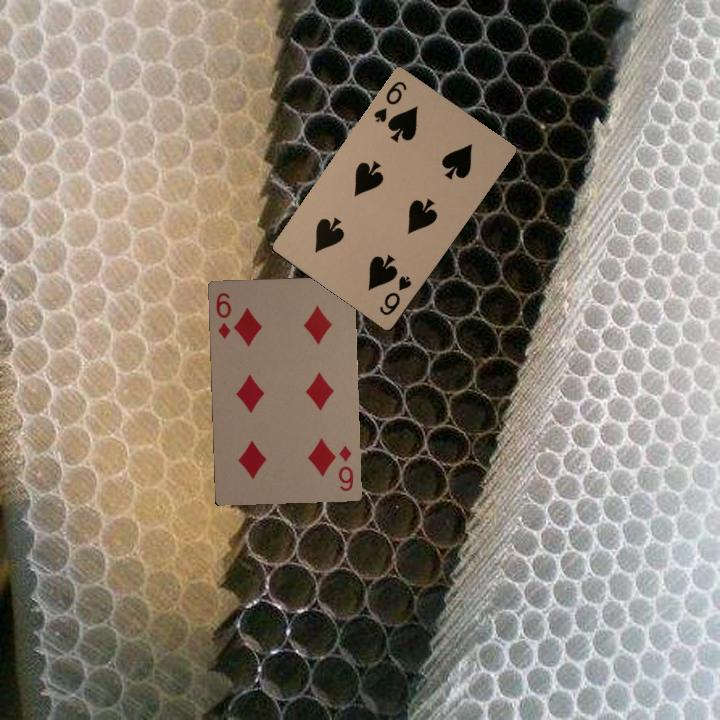6d: (334, 441, 356, 494), (212, 288, 233, 341)
6s: (370, 76, 410, 125), (375, 272, 414, 318)
